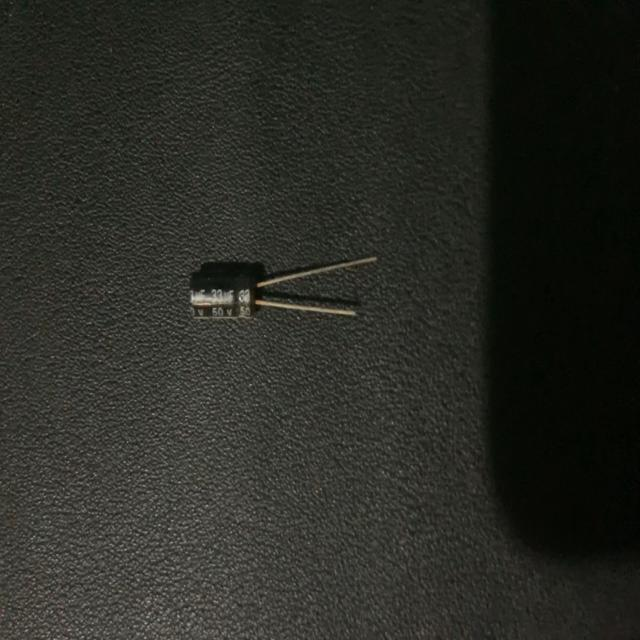capacitor: (186, 251, 379, 329)
